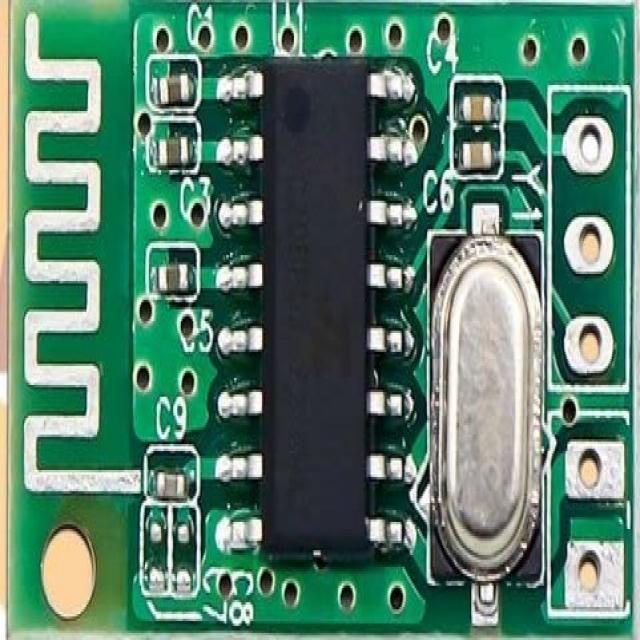IC: (228, 38, 400, 568)
capacitor 1V5: (161, 258, 203, 302), (155, 138, 194, 168), (460, 90, 495, 123), (157, 464, 187, 500), (463, 134, 490, 174), (154, 74, 191, 103)
clock Q1: (434, 233, 544, 592)
